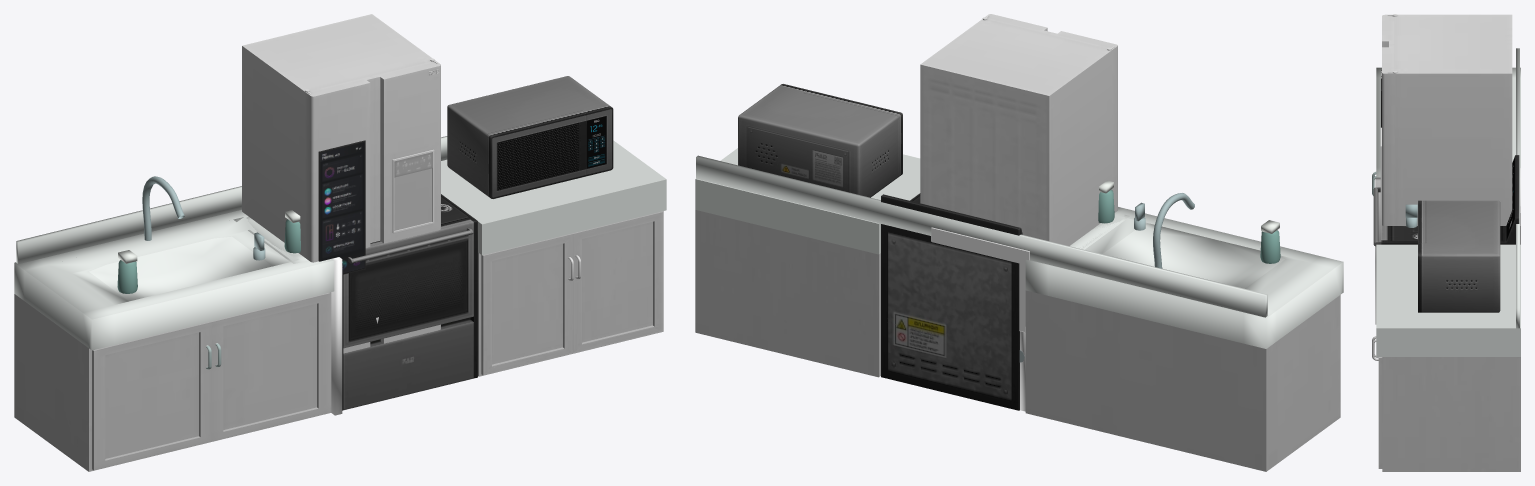
The model's file is furnishings.glb.
3 views of the same model, side by side, from view 1: azimuth 30°, elevation 25°; view 2: azimuth 150°, elevation 25°; view 3: azimuth 270°, elevation 25° (orthographic). The views are drawn at different scales.
Parts seen in each view (by area): view 1: ImportedSink, fridge_0, PrepCounter_0, Range_0, Microwave_0, PrepCounter_1, Range_1, Stone upstand, fridge_2, Microwave_1, Cabinet filler, Faucet (+1 smaller); view 2: ImportedSink, fridge_0, PrepCounter_0, Range_0, Microwave_0, Stone upstand, PrepCounter_1, Supplied_toilet, Faucet; view 3: fridge_0, PrepCounter_0, PrepCounter_1, Microwave_0, Range_0, ImportedSink, Stone upstand, Cabinet filler, TapHandle.001.
Boxes of the visible parts, bbox=[...] form: ImportedSink: bbox=[14, 210, 334, 471]; fridge_0: bbox=[242, 14, 440, 408]; PrepCounter_0: bbox=[478, 211, 663, 376]; Range_0: bbox=[342, 194, 477, 410]; Microwave_0: bbox=[447, 76, 613, 198]; PrepCounter_1: bbox=[441, 140, 666, 255]; Range_1: bbox=[351, 243, 465, 337]; Stone upstand: bbox=[16, 136, 447, 264]; fridge_2: bbox=[320, 142, 364, 273]; Microwave_1: bbox=[497, 123, 579, 190]; Cabinet filler: bbox=[331, 257, 342, 415]; Faucet: bbox=[142, 176, 184, 240]; ImportedSink: bbox=[1025, 207, 1343, 471]; fridge_0: bbox=[920, 14, 1117, 246]; PrepCounter_0: bbox=[695, 210, 880, 377]; Range_0: bbox=[881, 193, 1022, 410]; Microwave_0: bbox=[738, 84, 902, 197]; Stone upstand: bbox=[696, 155, 1267, 317]; PrepCounter_1: bbox=[695, 148, 920, 254]; Supplied_toilet: bbox=[931, 227, 1029, 362]; Faucet: bbox=[1153, 193, 1194, 268]; fridge_0: bbox=[1380, 14, 1512, 225]; PrepCounter_0: bbox=[1372, 336, 1520, 471]; PrepCounter_1: bbox=[1376, 244, 1520, 356]; Microwave_0: bbox=[1418, 200, 1500, 312]; Range_0: bbox=[1373, 155, 1519, 246]; ImportedSink: bbox=[1372, 67, 1520, 244]; Stone upstand: bbox=[1516, 48, 1519, 328]; Cabinet filler: bbox=[1375, 177, 1381, 324]; TapHandle.001: bbox=[1405, 204, 1417, 217].
Size of the model in its own units: 3.89 by 2.25 by 0.94.
20 materials, 8 textured.
